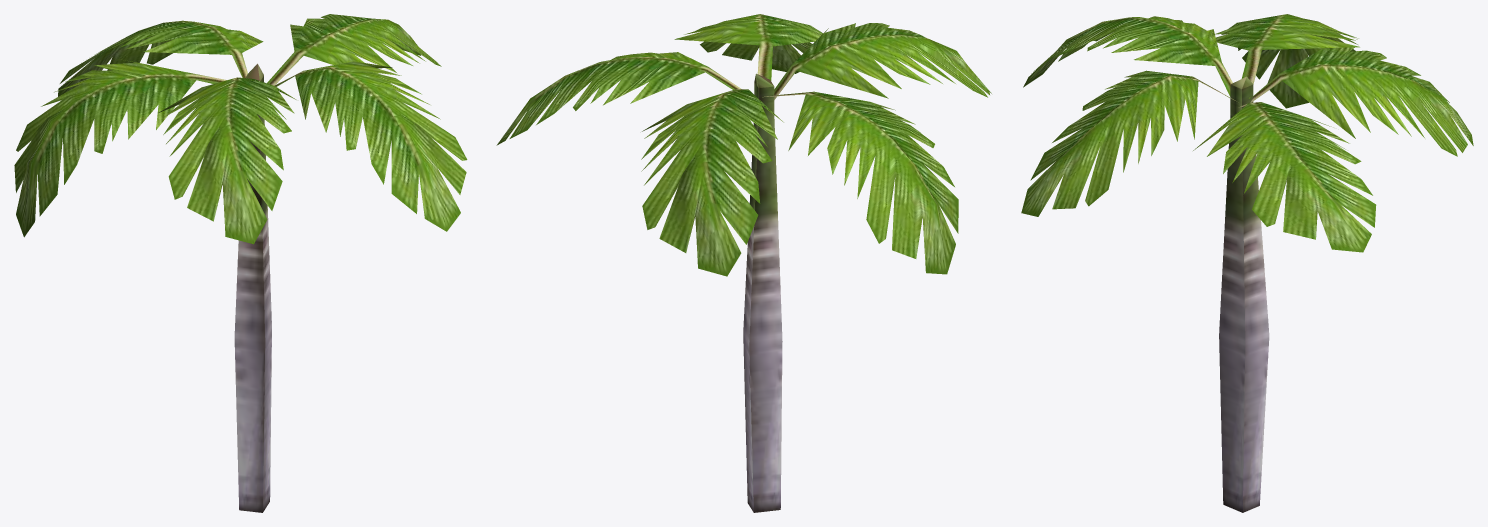
3 views of the same model, side by side, from view 1: azimuth 30°, elevation 25°; view 2: azimuth 150°, elevation 25°; view 3: azimuth 270°, elevation 25° (orthographic).
Parts seen in each view (by area): view 1: 5b2338abc4f5601100e58ab7; view 2: 5b2338abc4f5601100e58ab7; view 3: 5b2338abc4f5601100e58ab7.
Part boxes in pixels (x1=…): 5b2338abc4f5601100e58ab7: x1=14, y1=14, x2=467, y2=512; 5b2338abc4f5601100e58ab7: x1=496, y1=14, x2=991, y2=512; 5b2338abc4f5601100e58ab7: x1=1021, y1=14, x2=1473, y2=512.
Size of the model in its own units: 4.43 by 4.63 by 4.19.
1 material, 1 textured.
